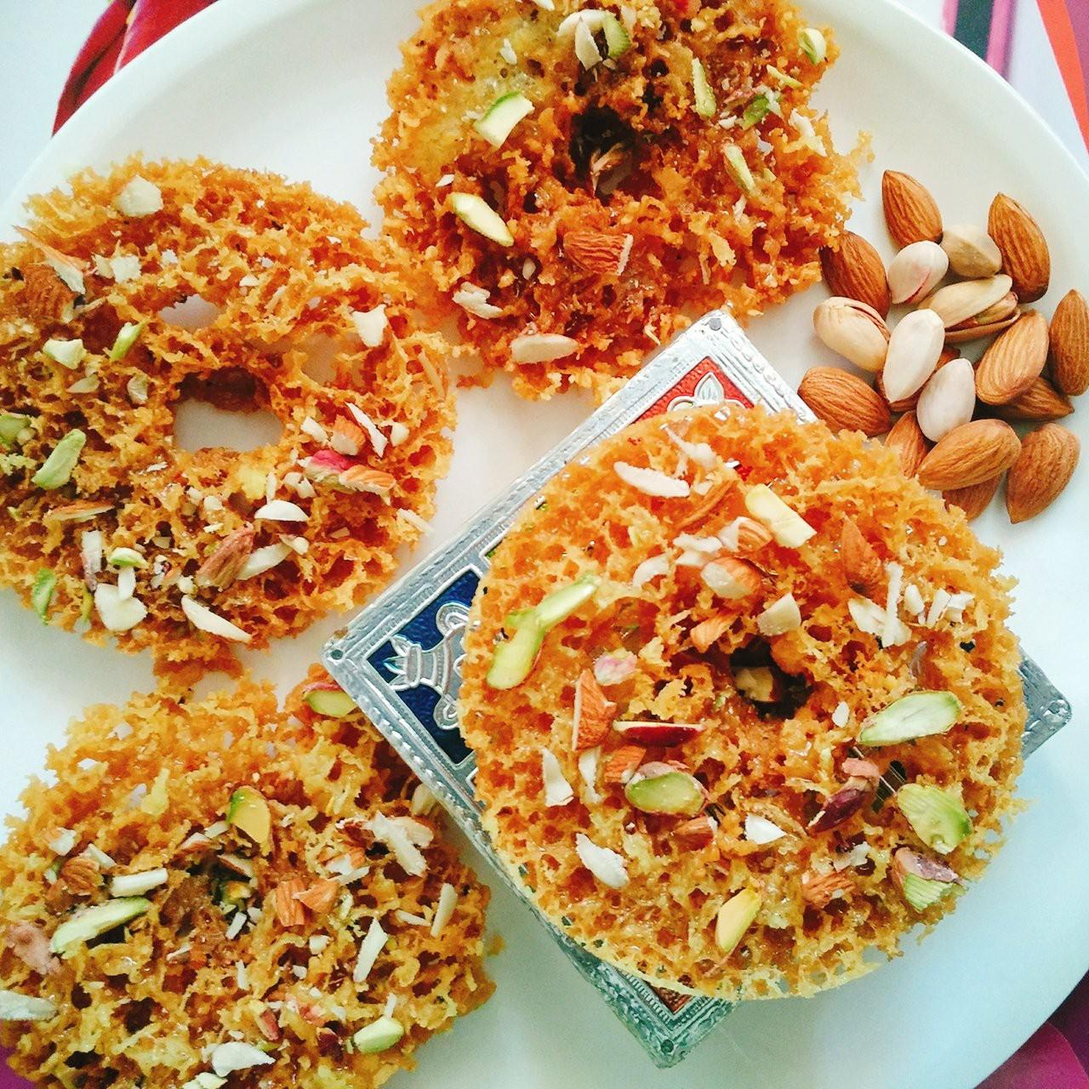Ghevar: (450, 401, 1022, 1006), (0, 156, 450, 701), (379, 0, 881, 407), (0, 692, 481, 1089)
